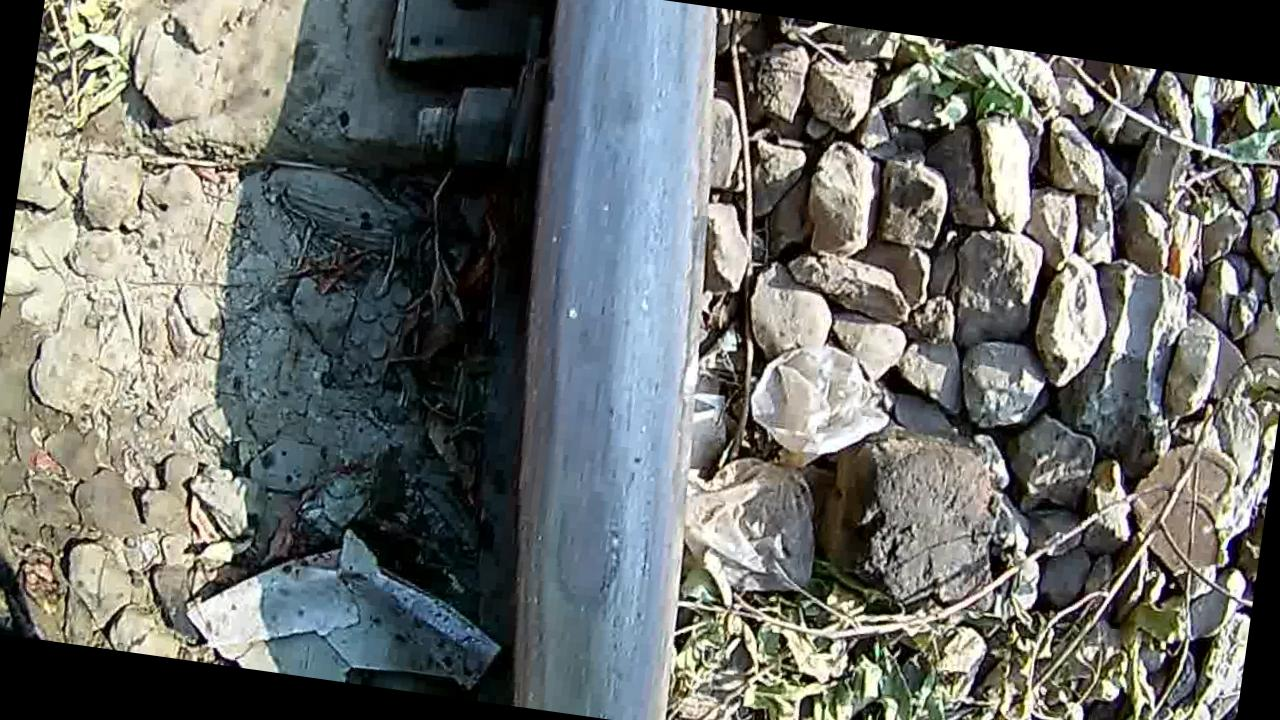bolt_missing: (472, 0, 723, 710)
